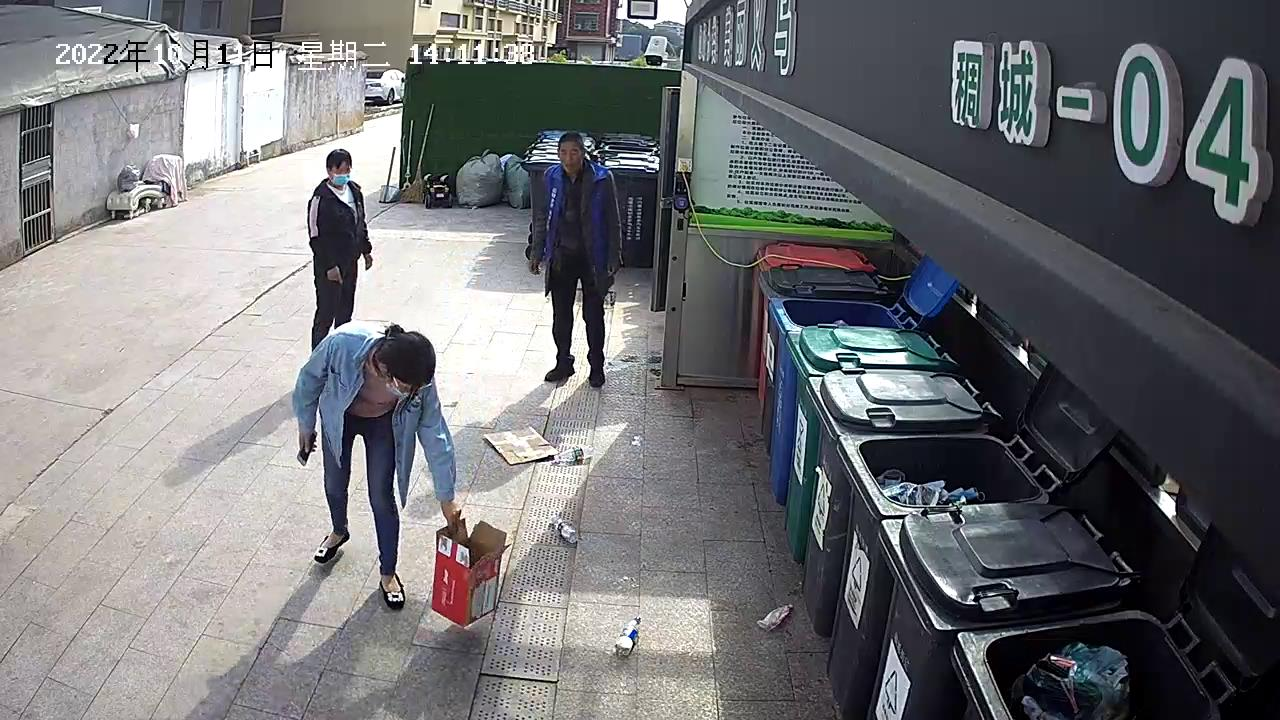person: (305, 147, 375, 359)
suliaozhipin: (614, 614, 643, 659), (754, 602, 796, 632), (547, 510, 581, 547), (552, 443, 596, 464)
worker: (291, 318, 462, 612), (527, 129, 625, 391)
zhizhipin: (429, 516, 508, 632), (479, 423, 560, 468)
